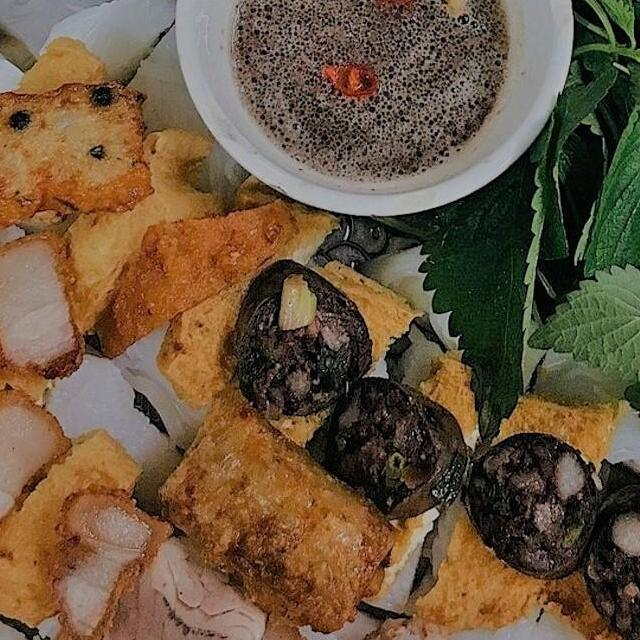bun dau: (0, 0, 640, 640)
cha com: (0, 71, 166, 245), (43, 462, 179, 640), (0, 230, 97, 387), (0, 381, 85, 554)
cha gio: (142, 389, 413, 640)
doi sun: (294, 370, 470, 540), (206, 260, 382, 416), (450, 418, 602, 590), (559, 450, 640, 640)
thit heo: (74, 529, 271, 640), (329, 597, 491, 640)
